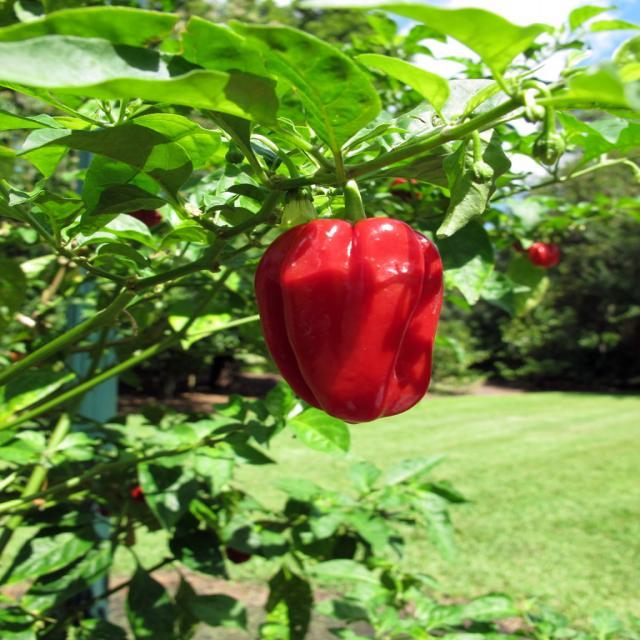Bell pepper: (254, 215, 442, 425)
